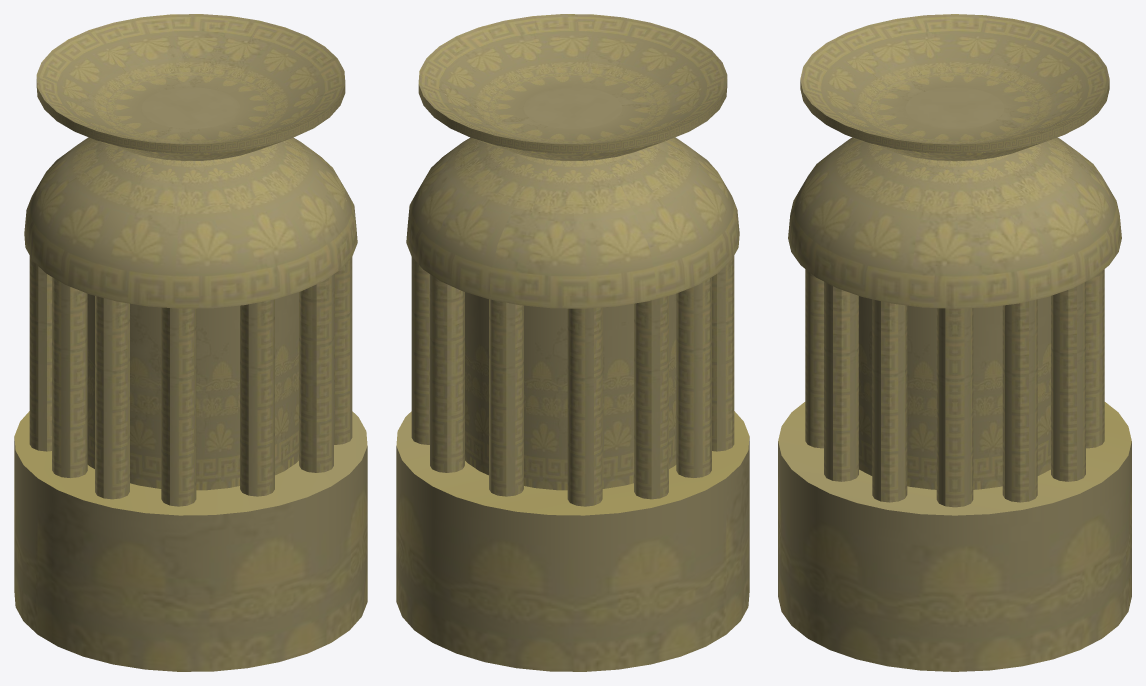
Rendered from SM_Brasero_02.glb.
3 views of the same model, side by side, from view 1: azimuth 30°, elevation 25°; view 2: azimuth 150°, elevation 25°; view 3: azimuth 270°, elevation 25° (orthographic).
Visible parts, largest first — view 1: SM_Brasero_02; view 2: SM_Brasero_02; view 3: SM_Brasero_02.
Boxes of the visible parts, left/top/right/bottom form: SM_Brasero_02: left=14, top=14, right=367, bottom=671; SM_Brasero_02: left=396, top=14, right=749, bottom=671; SM_Brasero_02: left=778, top=14, right=1131, bottom=671.
Bounding box in the file's own units: 15.06 × 24.33 × 15.06.
Materials: 1 (1 with a texture image).
